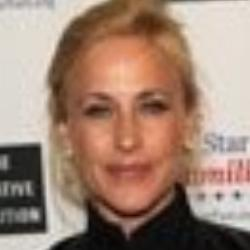face: (40, 4, 210, 224)
